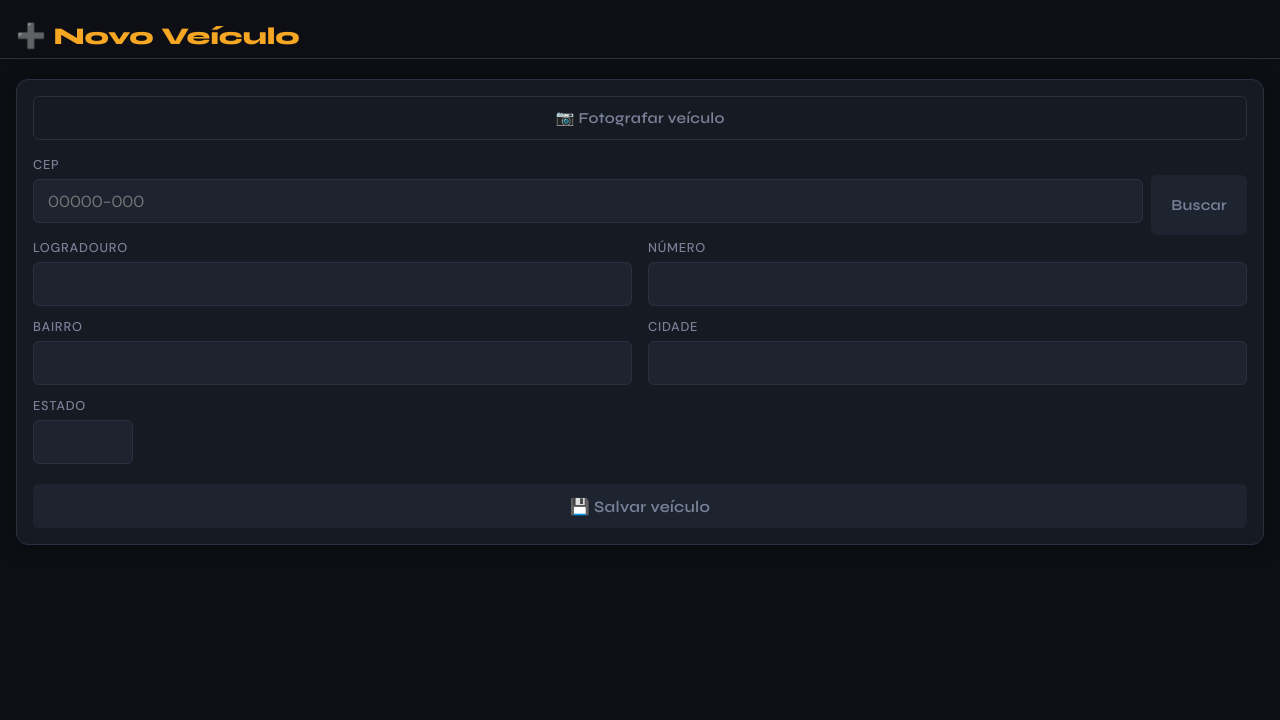
ImovelForm › exibe erro ao digitar CEP inválido curto
Type "123" into the field labelled "CEP".
click(588, 201); type("123")  # box left=33, top=179, right=1143, bottom=223
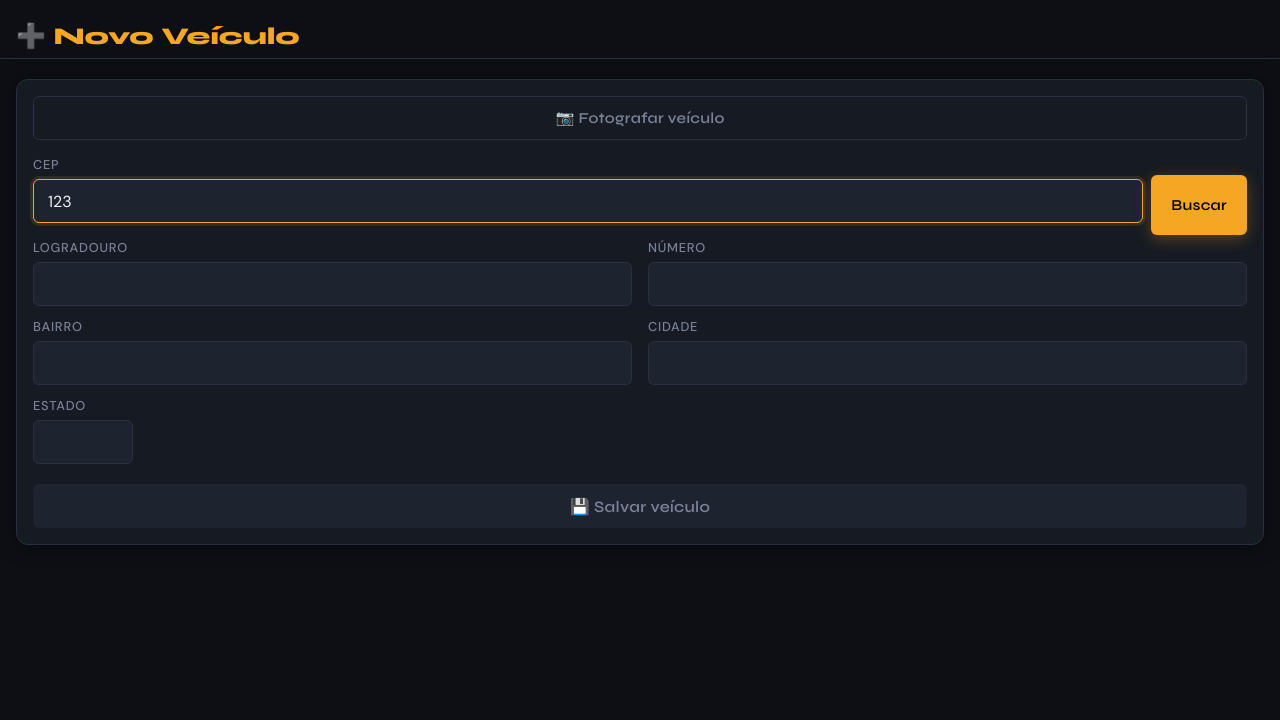
Click the button "Buscar".
click(1199, 205)  # box left=1151, top=175, right=1247, bottom=235
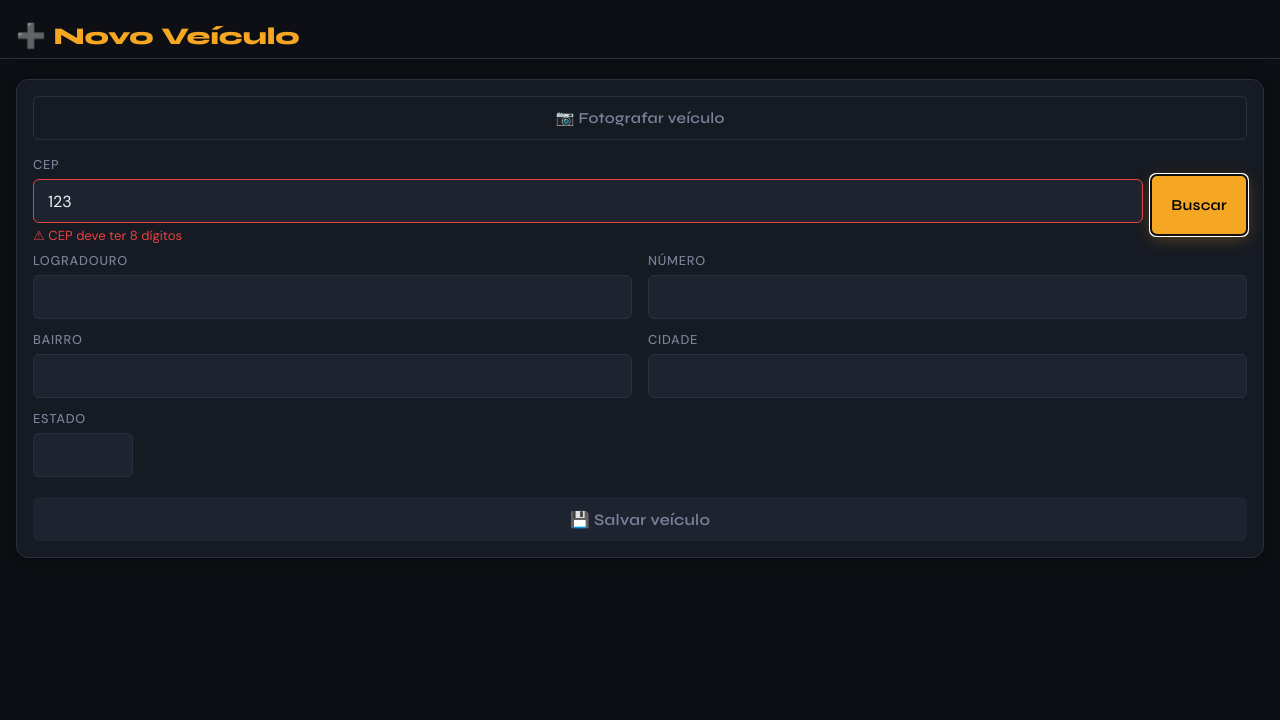
Expected: the text "⚠ CEP deve ter 8 dígitos" is shown, left=33, top=227, right=182, bottom=244
